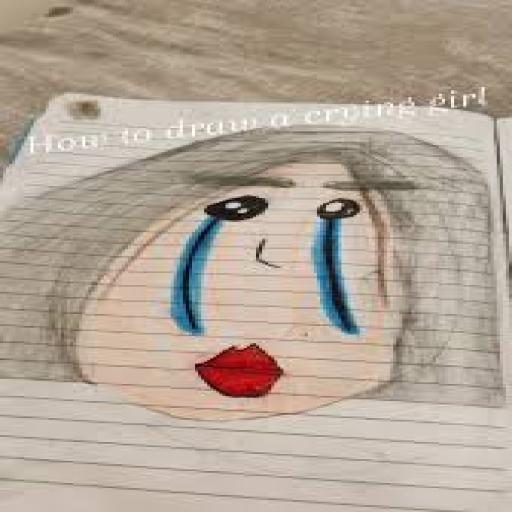person: (0, 116, 512, 426)
